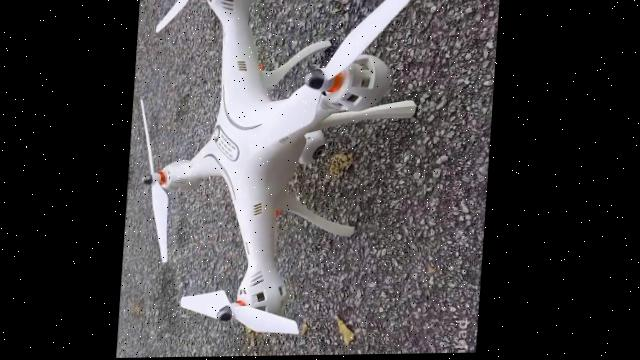drone: (126, 0, 439, 340)
